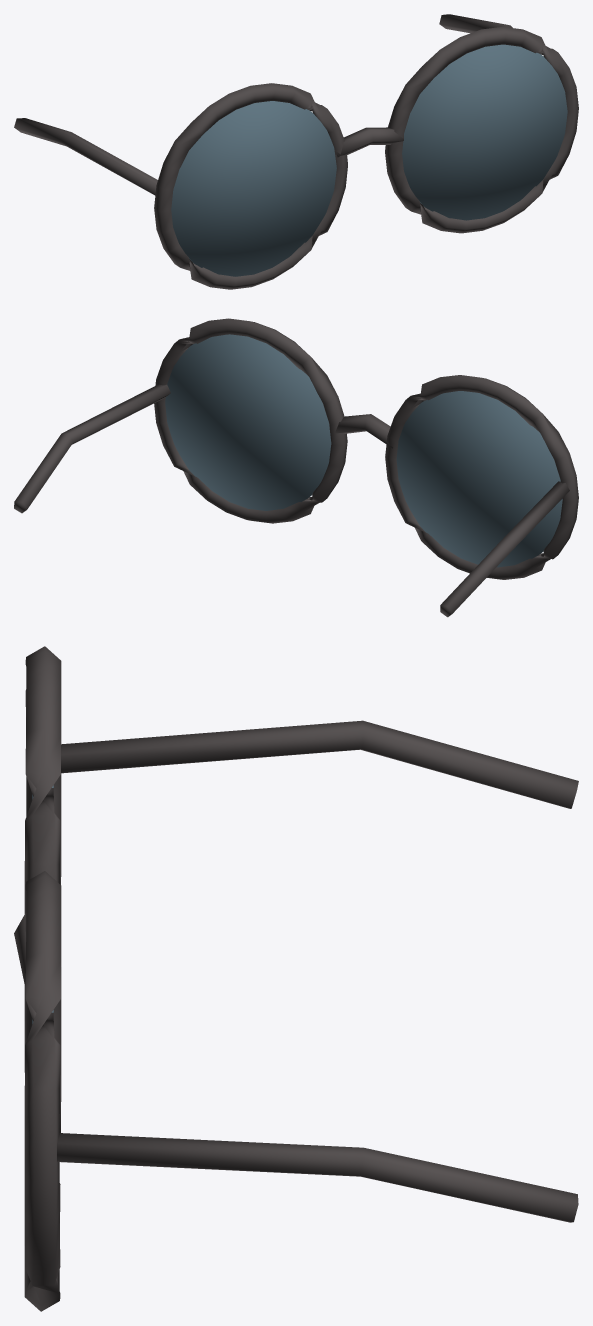
The model's file is turtle-acc-sunglasses-matsing.glb.
The picture shows the model from 3 angles, top to bottom: view 1: azimuth 30°, elevation 25°; view 2: azimuth 150°, elevation 25°; view 3: azimuth 270°, elevation 25°; orthographic projection. The views are drawn at different scales.
Visible parts, largest first — view 1: lens-1, lens1, rim-1, rim1, arm-1, bridge, arm1; view 2: lens1, lens-1, rim1, rim-1, arm1, arm-1, bridge; view 3: arm1, rim1, arm-1, rim-1.
Part boxes in pixels (x1=…): lens-1: x1=171, y1=101, x2=336, y2=276; lens1: x1=402, y1=44, x2=567, y2=220; rim-1: x1=154, y1=83, x2=347, y2=289; rim1: x1=385, y1=27, x2=578, y2=233; arm-1: x1=14, y1=118, x2=157, y2=195; bridge: x1=335, y1=127, x2=403, y2=157; arm1: x1=439, y1=14, x2=512, y2=33; lens1: x1=165, y1=334, x2=331, y2=510; lens-1: x1=396, y1=391, x2=562, y2=567; rim1: x1=154, y1=318, x2=347, y2=523; rim-1: x1=385, y1=375, x2=578, y2=579; arm1: x1=14, y1=384, x2=170, y2=513; arm-1: x1=440, y1=481, x2=569, y2=617; bridge: x1=335, y1=414, x2=392, y2=448; arm1: x1=57, y1=1133, x2=578, y2=1222; rim1: x1=24, y1=871, x2=61, y2=1311; arm-1: x1=61, y1=720, x2=578, y2=808; rim-1: x1=24, y1=646, x2=61, y2=1072.
Size of the model in its own units: 0.3909 by 0.1657 by 0.2123.
